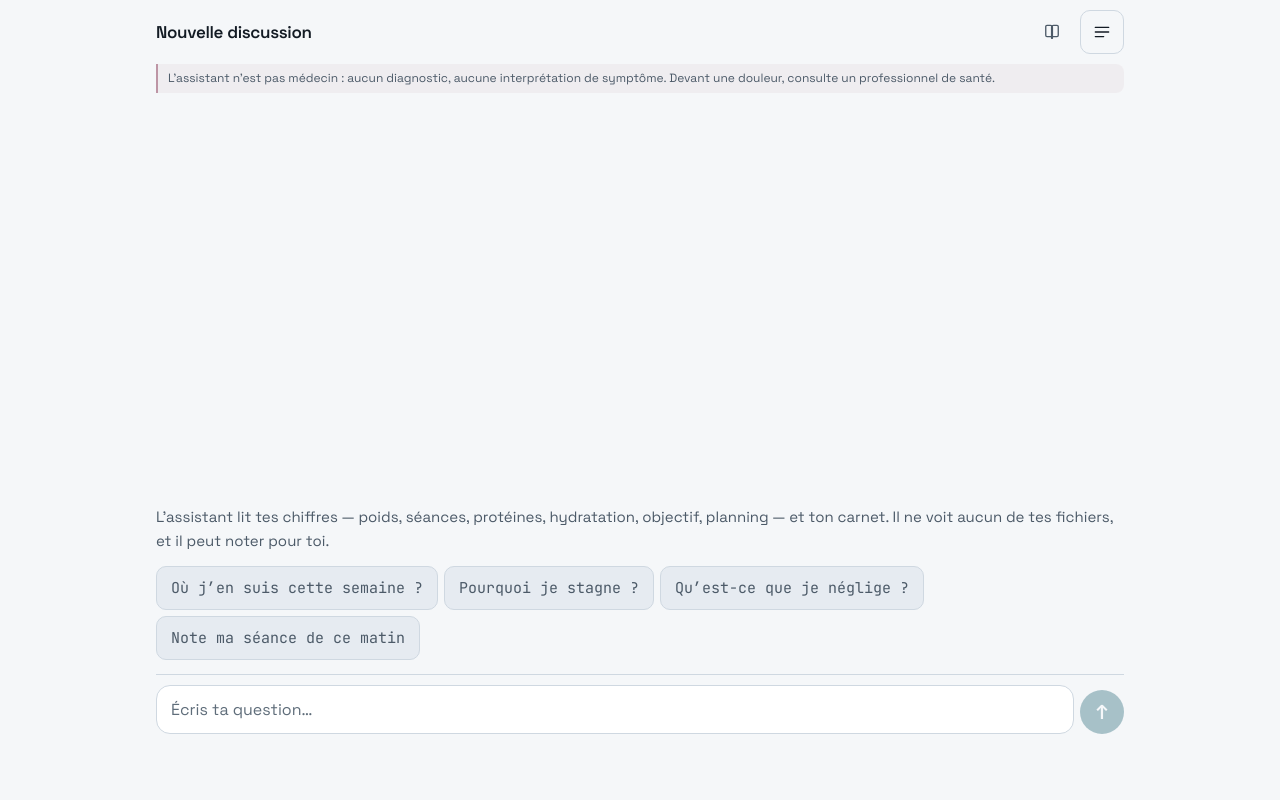
it: conversation › affiche la réponse du serveur telle quelle
The width and height of the screenshot is (1280, 800).
Type "Pourquoi je stagne ?" into the text box labelled "ta question" at (615, 709), box [156,685,1074,734]
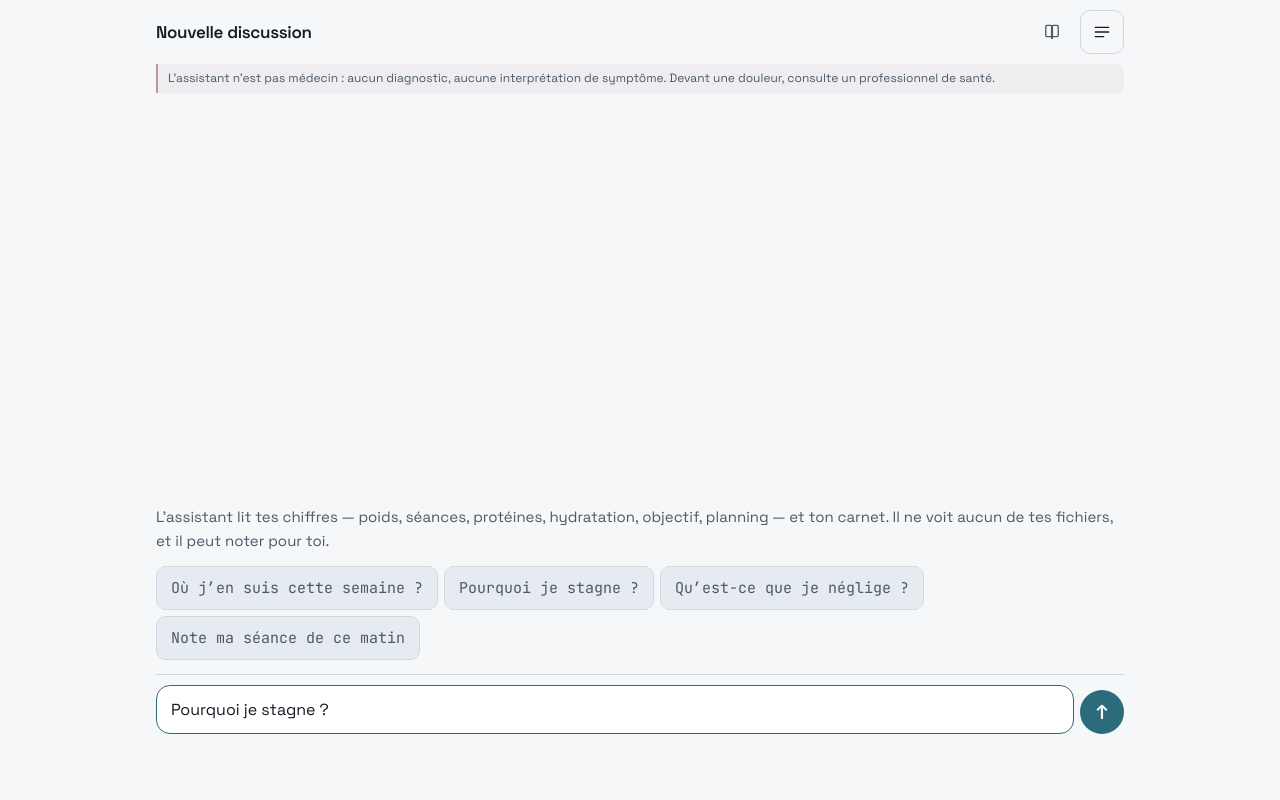
Click the button named "Envoyer" at (1102, 712), box [1080,690,1124,734]
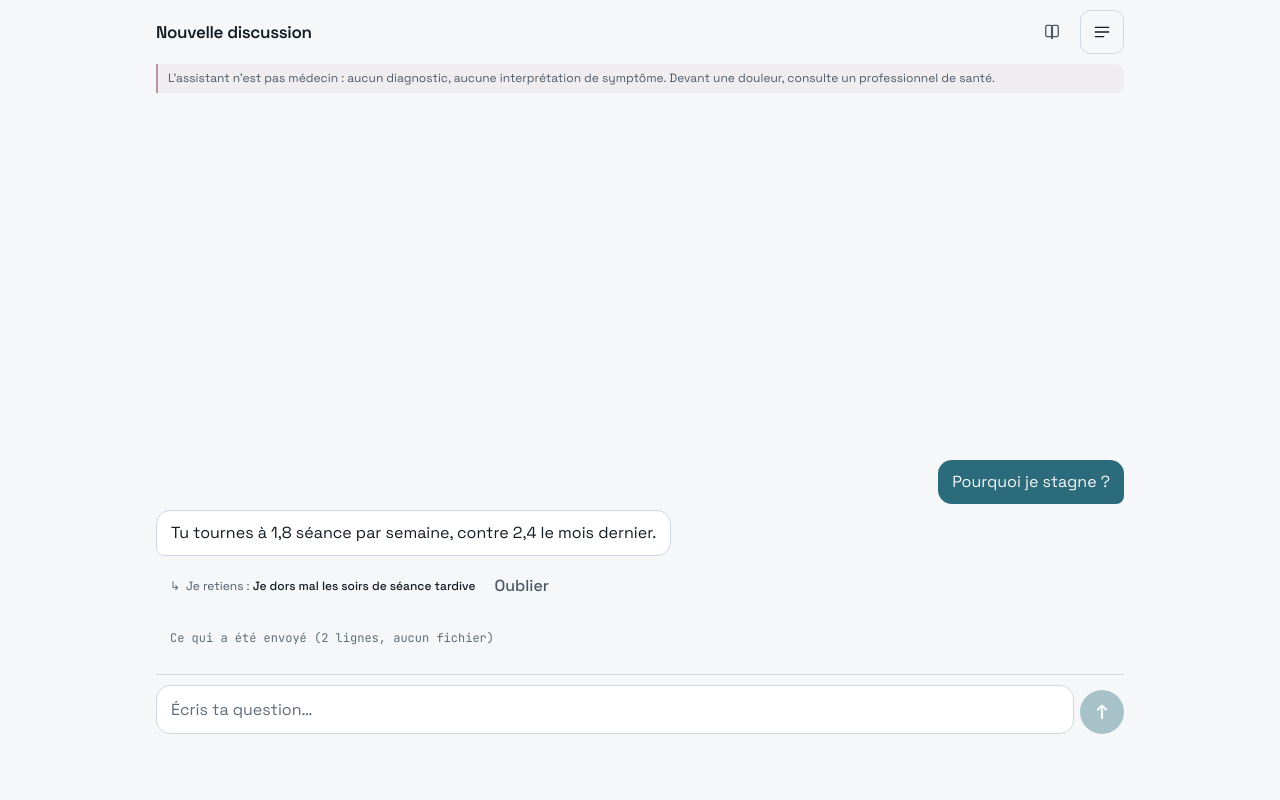
Check: the text "Pourquoi je stagne ?" is shown, box [938,460,1124,504]
Check: the text "Tu tournes à 1,8 séance par semaine, contre 2,4 le mois dernier." is shown, box [156,510,671,556]
